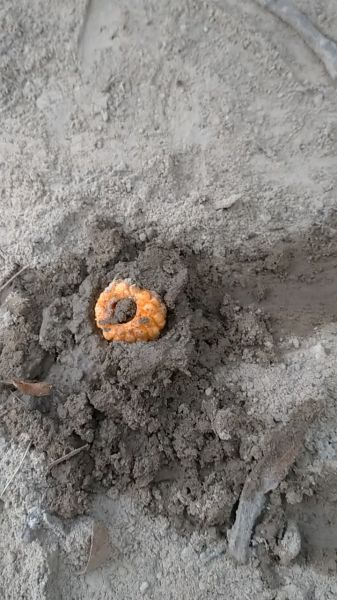eggs: (88, 276, 178, 352)
